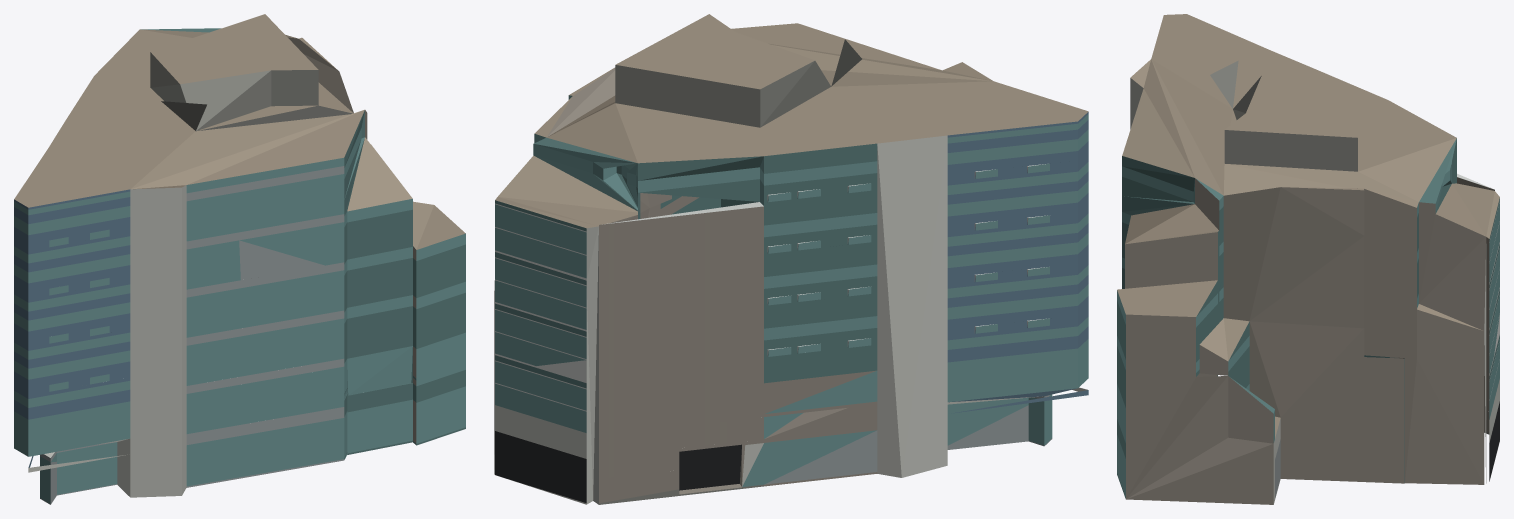
Rendered from politie-nieuwezijds-voorburgwal.lod2.glb.
The picture shows the model from 3 angles, left to right: view 1: azimuth 30°, elevation 25°; view 2: azimuth 150°, elevation 25°; view 3: azimuth 270°, elevation 25°; orthographic projection. The views are drawn at different scales.
Parts seen in each view (by area): view 1: lod2; view 2: lod2; view 3: lod2.
Boxes of the visible parts, x1,y1,x2,y2 form: lod2: [14, 14, 465, 504]; lod2: [494, 14, 1088, 504]; lod2: [1117, 14, 1499, 504].
Bounding box in the file's own units: 32.79 × 25 × 26.65.
